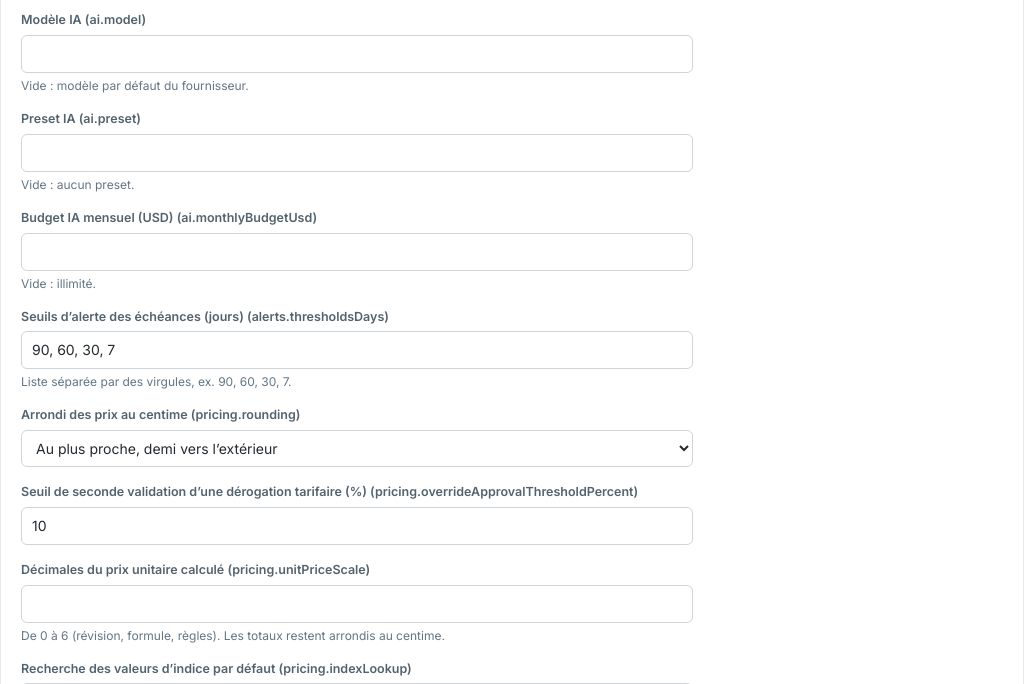
Test: paramètres : seule la valeur modifiée est envoyée ; l’erreur de validation serveur est affichée sous le champ
(page scrolled)
Step 1. Replace the text in the field labelled "Seuils d’alerte" with "90, 0" → (357, 350), box [21, 331, 693, 369]
(page scrolled)
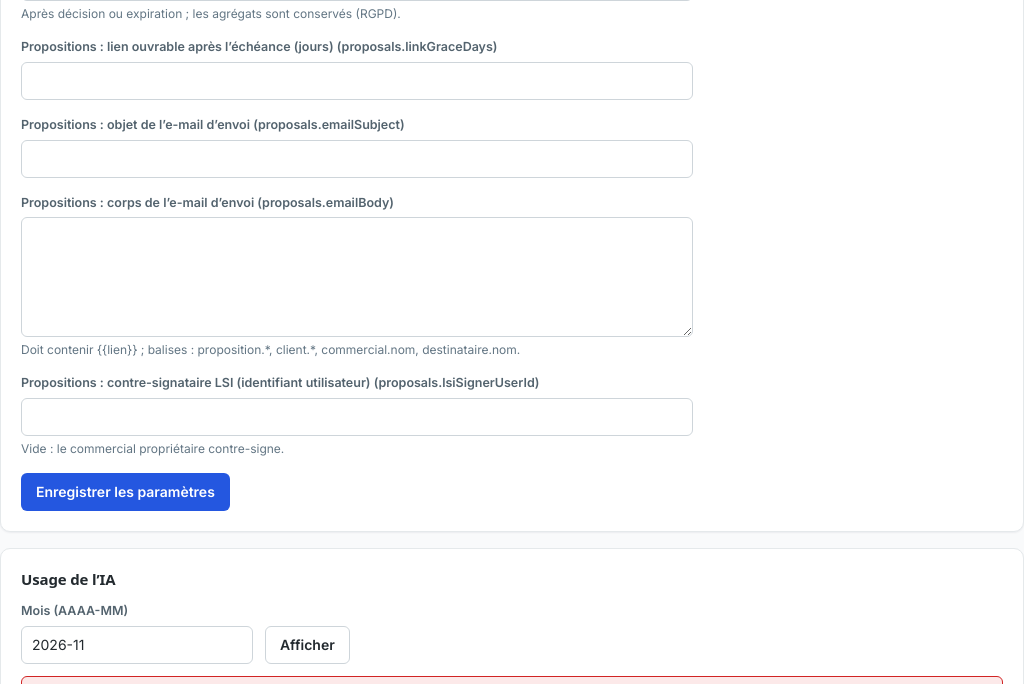
Step 2. Click the button "Enregistrer les paramètres" → (125, 492), box [21, 473, 230, 511]
(page scrolled)
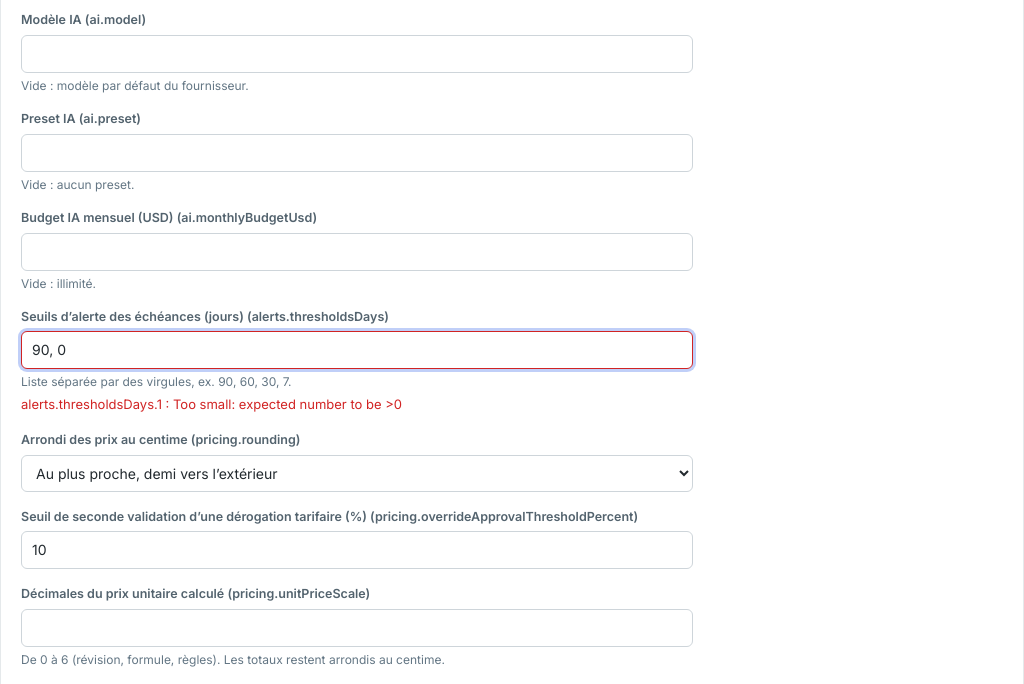
expect the text "alerts.thresholdsDays.1 : Too small" is shown: met, box [21, 396, 402, 412]
